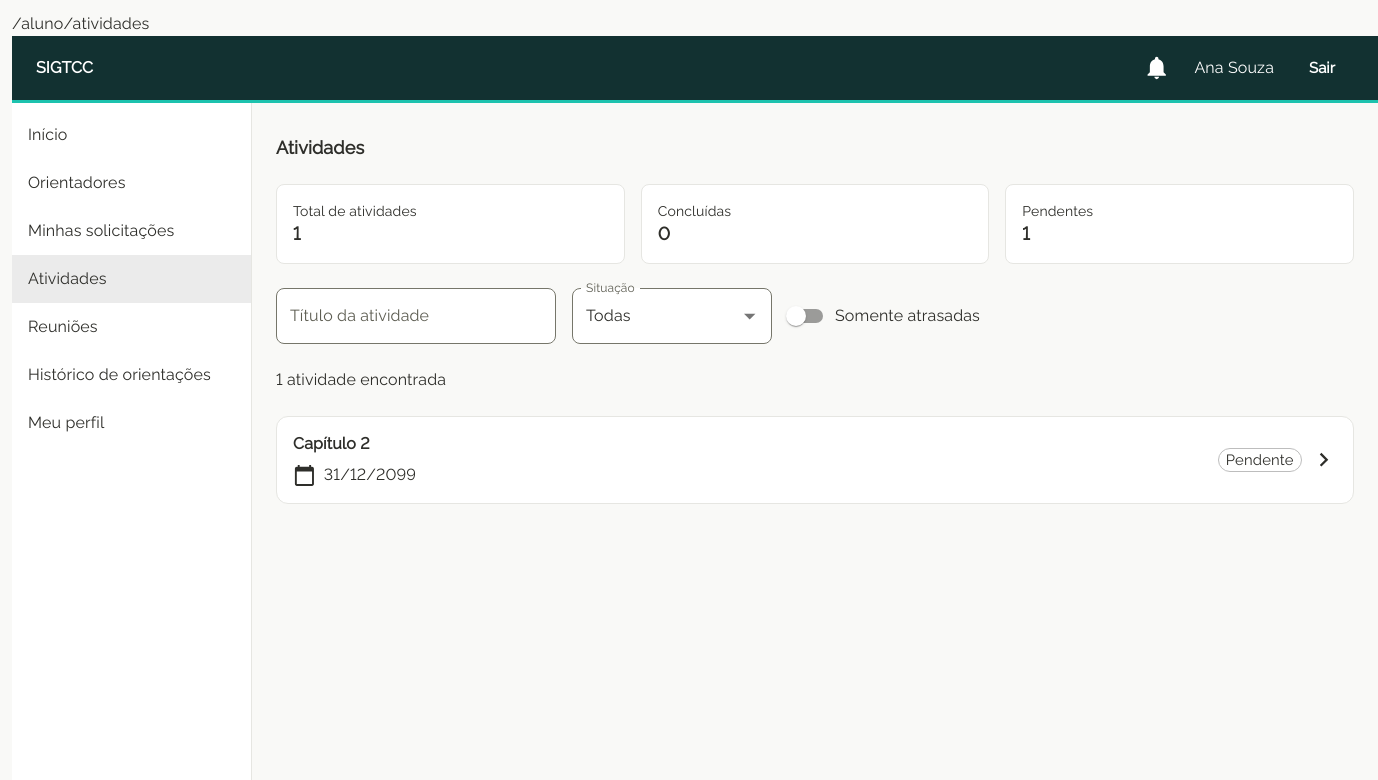
Test: ActivitiesPage: a lista do aluno › abre o detalhe ao escolher a atividade
Click the link "Capítulo 2 31/12/2099 Pendente" at (331, 443), box [277,417,1353,503]
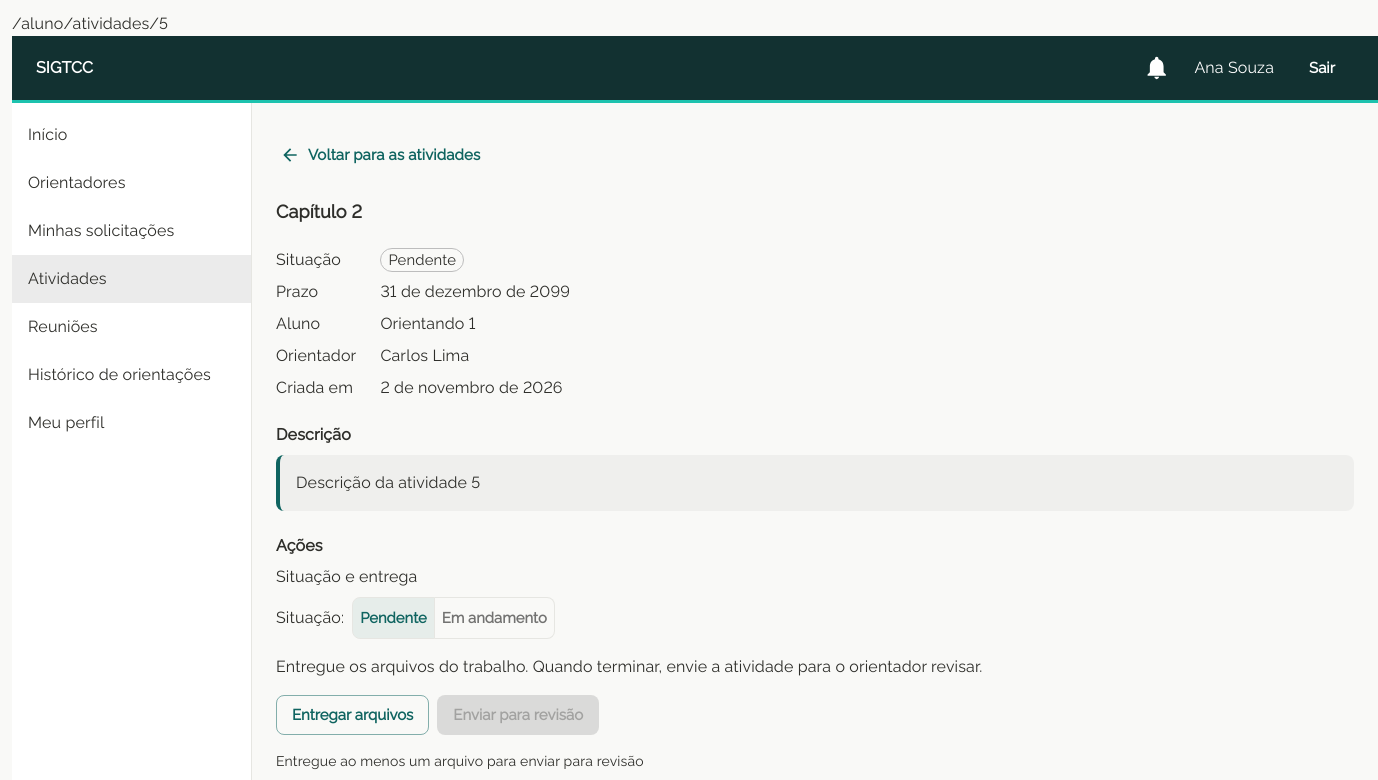
Check: the text with test id "location" reads "/aluno/atividades/5", box [12,14,168,33]
